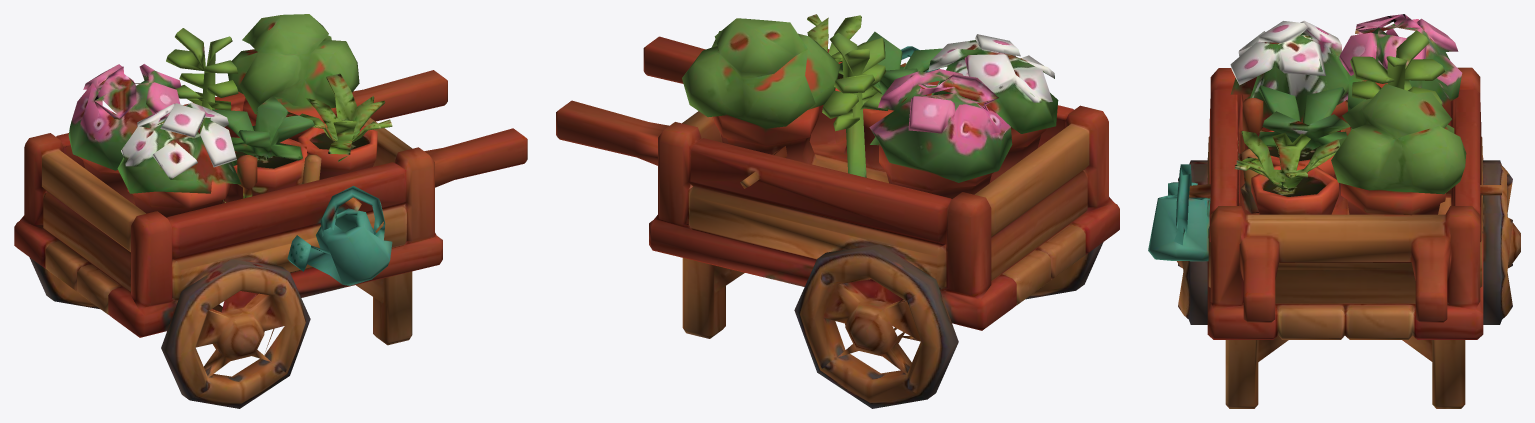
Rendered from cart.glb.
The picture shows the model from 3 angles, left to right: view 1: azimuth 30°, elevation 25°; view 2: azimuth 150°, elevation 25°; view 3: azimuth 270°, elevation 25°; orthographic projection. The views are drawn at different scales.
Parts seen in each view (by area): view 1: tripo_node_06c9a358-f895-42e0-9881-00147dab2e2e; view 2: tripo_node_06c9a358-f895-42e0-9881-00147dab2e2e; view 3: tripo_node_06c9a358-f895-42e0-9881-00147dab2e2e.
Part boxes in pixels (x1=…): tripo_node_06c9a358-f895-42e0-9881-00147dab2e2e: x1=14, y1=14, x2=527, y2=408; tripo_node_06c9a358-f895-42e0-9881-00147dab2e2e: x1=556, y1=14, x2=1119, y2=408; tripo_node_06c9a358-f895-42e0-9881-00147dab2e2e: x1=1148, y1=14, x2=1520, y2=408.
Bounding box in the file's own units: 0.9795 × 0.6652 × 0.7188.
1 material, 1 textured.
